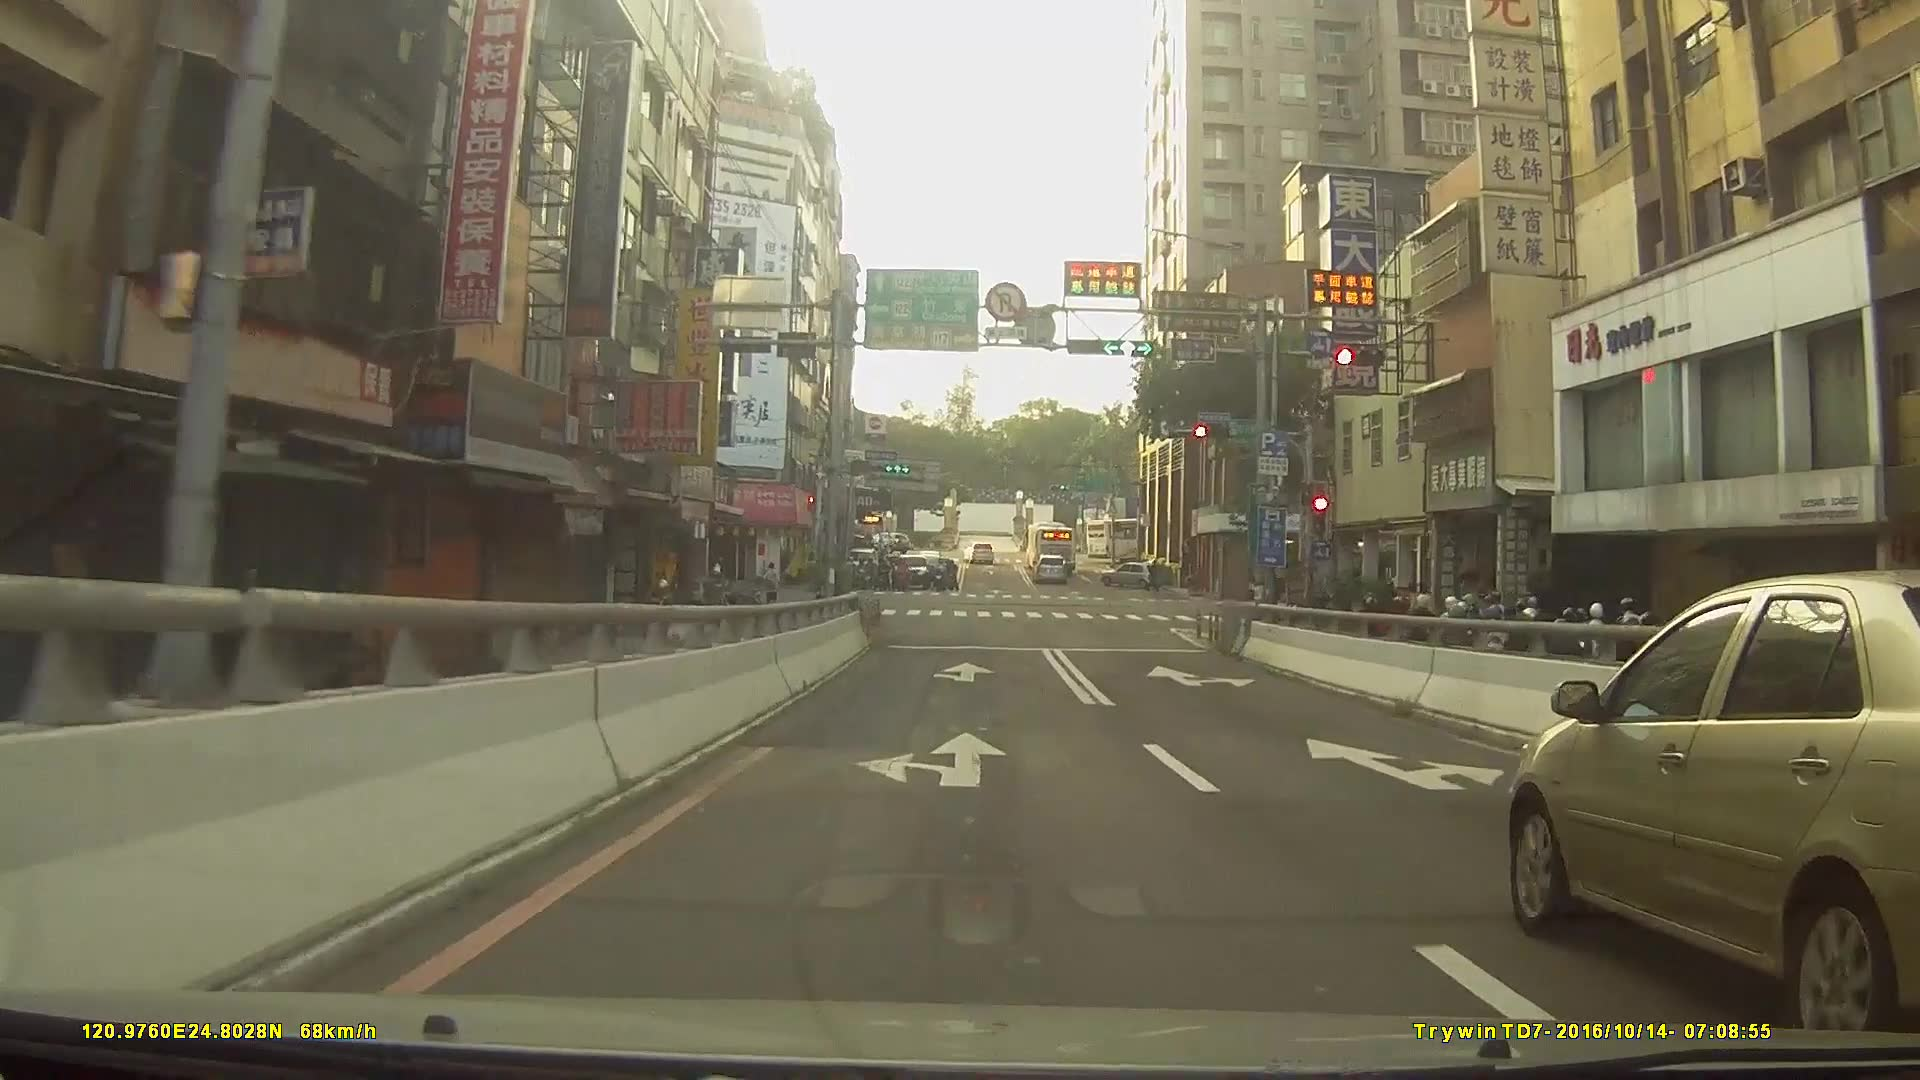rider: (648, 575, 684, 652)
vehicle: (1507, 567, 1920, 1038), (1085, 516, 1170, 563), (1027, 518, 1075, 566), (1097, 559, 1169, 590), (889, 555, 932, 591), (1032, 550, 1068, 580), (866, 528, 911, 551), (961, 538, 994, 563)
